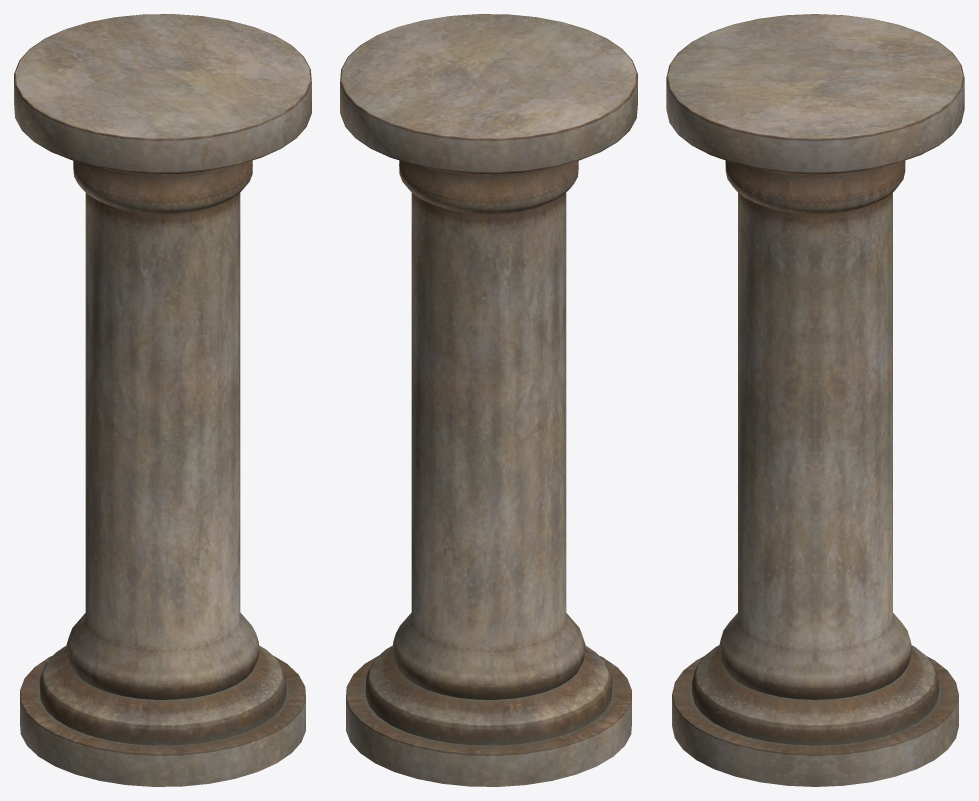
Rendered from Pedestal03.FBX.
3 views of the same model, side by side, from view 1: azimuth 30°, elevation 25°; view 2: azimuth 150°, elevation 25°; view 3: azimuth 270°, elevation 25° (orthographic).
Visible parts, largest first — view 1: Pedestal03; view 2: Pedestal03; view 3: Pedestal03.
Part boxes in pixels (x1=…): Pedestal03: x1=14, y1=14, x2=311, y2=786; Pedestal03: x1=340, y1=14, x2=637, y2=786; Pedestal03: x1=666, y1=14, x2=964, y2=786.
Bounding box in the file's own units: 416 × 1000 × 416.
